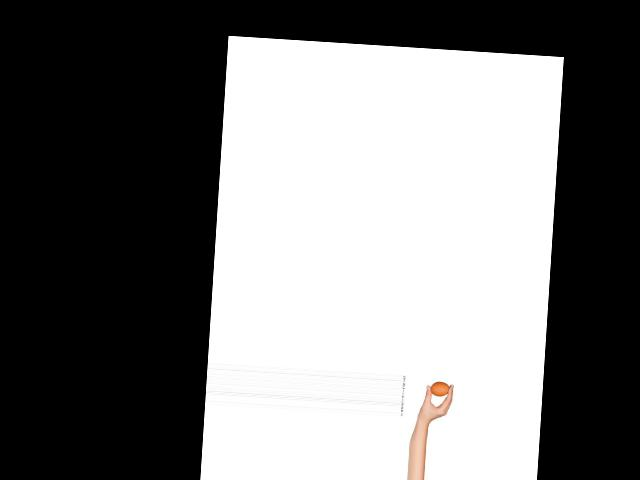egg: (429, 380, 450, 396)
